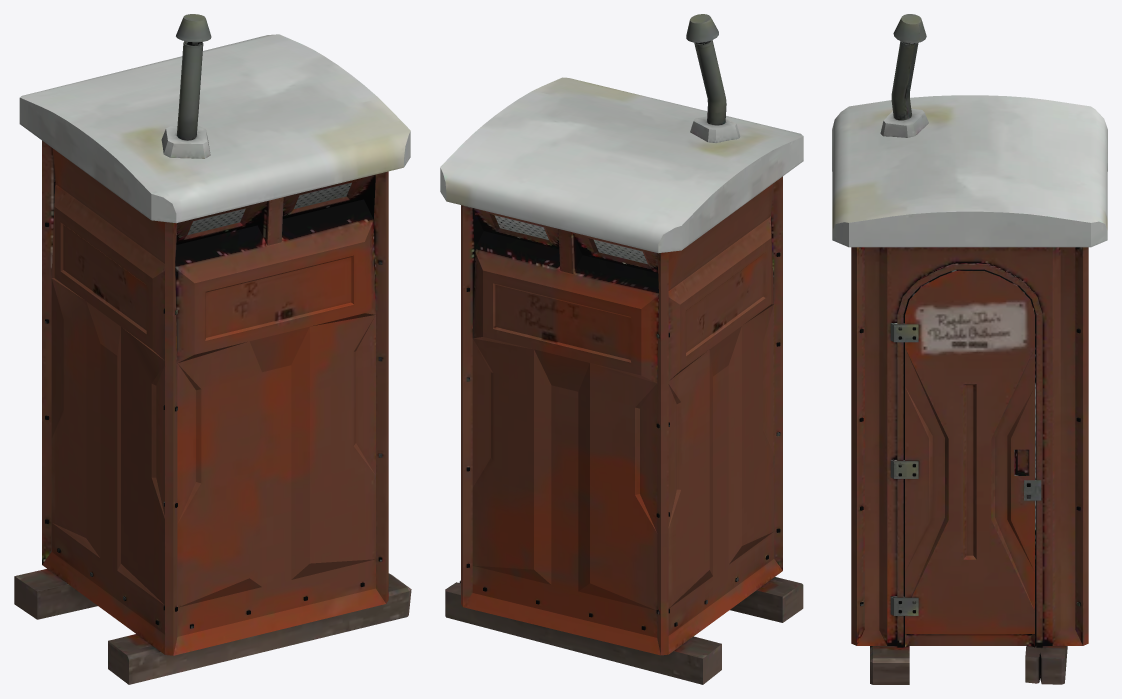
3 views of the same model, side by side, from view 1: azimuth 30°, elevation 25°; view 2: azimuth 150°, elevation 25°; view 3: azimuth 270°, elevation 25° (orthographic). The views are drawn at different scales.
Parts seen in each view (by area): view 1: body0_model0_lod0_mesh0; view 2: body0_model0_lod0_mesh0; view 3: body0_model0_lod0_mesh0.
Boxes of the visible parts, bbox=[...] form: body0_model0_lod0_mesh0: bbox=[14, 14, 411, 684]; body0_model0_lod0_mesh0: bbox=[440, 14, 803, 684]; body0_model0_lod0_mesh0: bbox=[832, 14, 1107, 684].
Size of the model in its own units: 85.55 by 179 by 77.21.
Materials: 1 (1 with a texture image).
